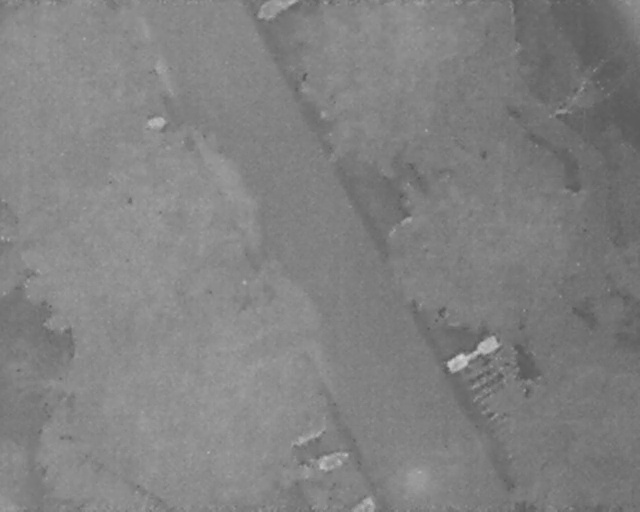Bicycle: (286, 445, 356, 487), (442, 333, 502, 373)
